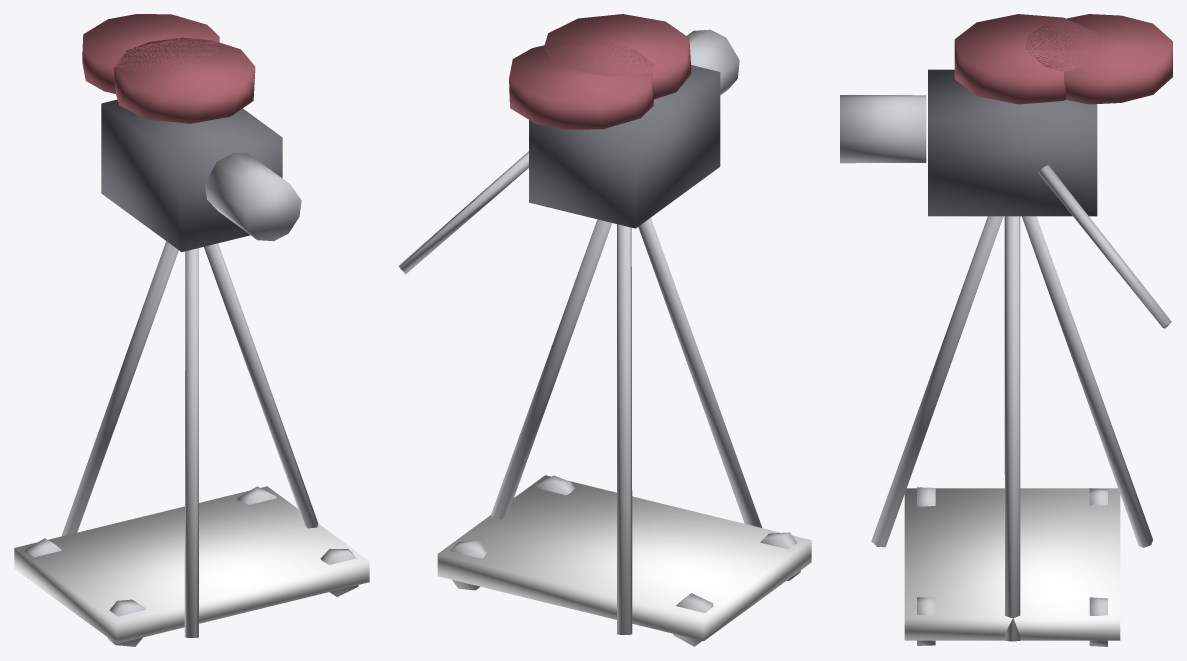
File: Prop_StudioCamera_LOD1.glb
3 renders of one model, left to right at view 1: azimuth 30°, elevation 25°; view 2: azimuth 150°, elevation 25°; view 3: azimuth 270°, elevation 25°, orthographic. The views are drawn at different scales.
Visible parts, largest first — view 1: Prop_StudioCamera_LOD1; view 2: Prop_StudioCamera_LOD1; view 3: Prop_StudioCamera_LOD1.
Part boxes in pixels (x1=…): Prop_StudioCamera_LOD1: x1=14, y1=14, x2=369, y2=646; Prop_StudioCamera_LOD1: x1=398, y1=14, x2=811, y2=646; Prop_StudioCamera_LOD1: x1=840, y1=14, x2=1172, y2=646.
Size of the model in its own units: 1.07 by 1.95 by 1.08.
